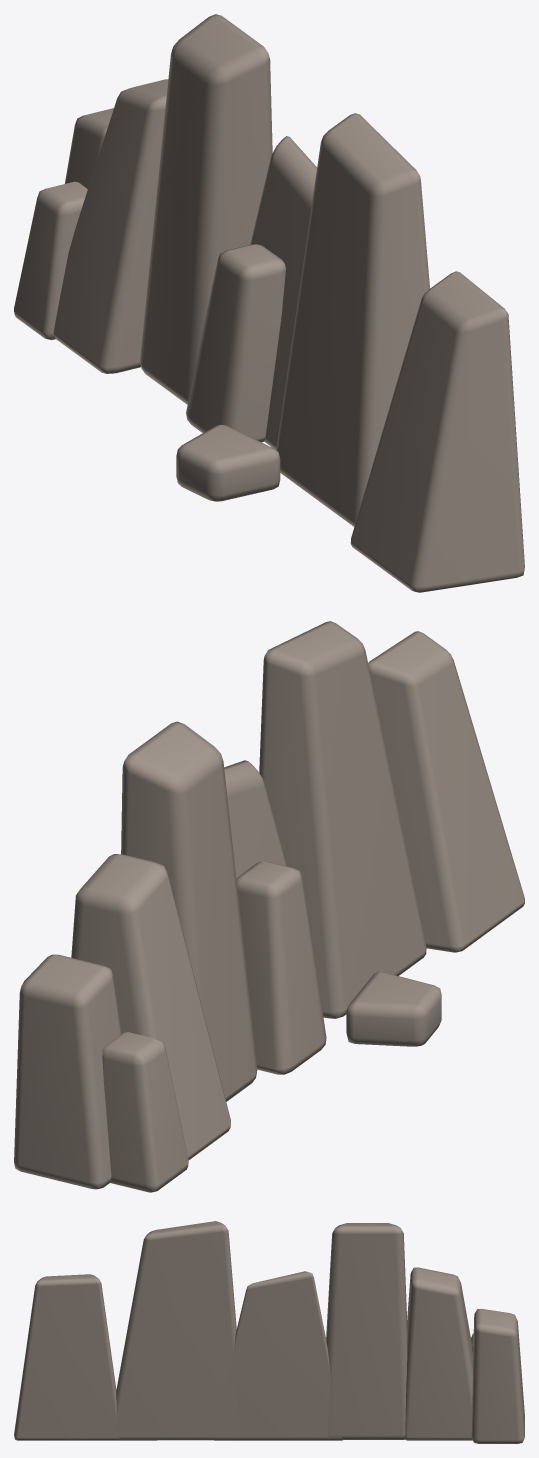
File: Cliff_Rocks_03.fbx
The picture shows the model from 3 angles, top to bottom: view 1: azimuth 30°, elevation 25°; view 2: azimuth 150°, elevation 25°; view 3: azimuth 270°, elevation 25°; orthographic projection. The views are drawn at different scales.
Visible parts, largest first — view 1: Cliff_Rocks_03; view 2: Cliff_Rocks_03; view 3: Cliff_Rocks_03.
Boxes of the visible parts, x1=… form: Cliff_Rocks_03: x1=14, y1=14, x2=524, y2=592; Cliff_Rocks_03: x1=14, y1=621, x2=524, y2=1192; Cliff_Rocks_03: x1=14, y1=1221, x2=524, y2=1443.
Size of the model in its own units: 54.27 by 98.17 by 209.
